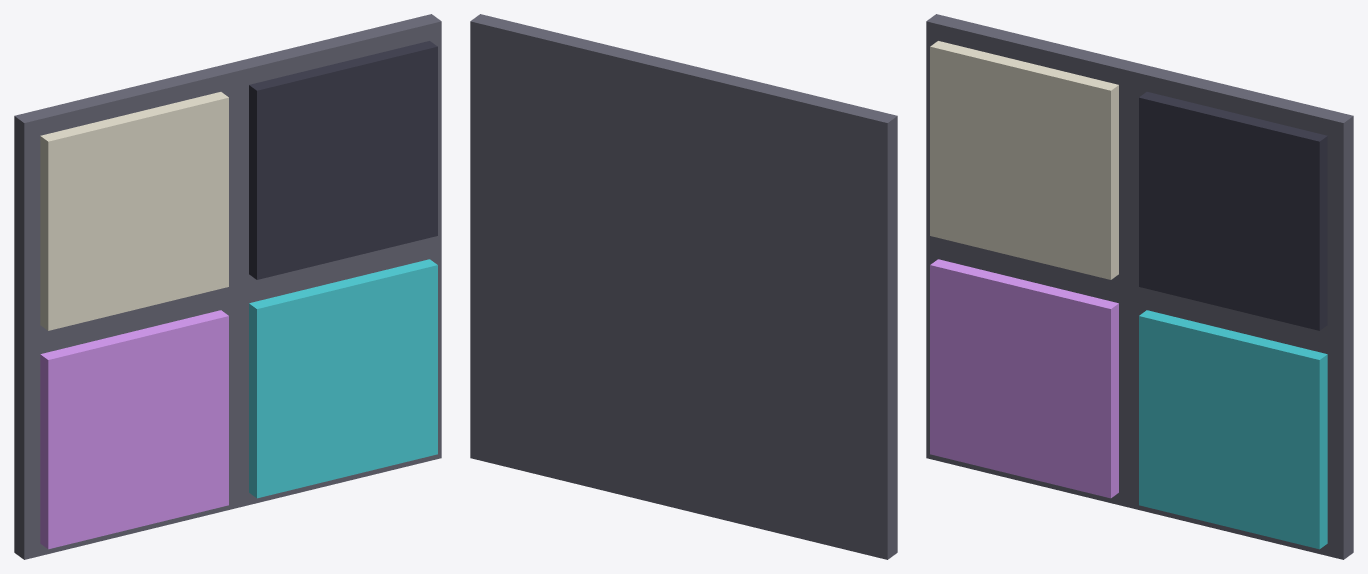
File: 02_texture_remaster_overlay_2.glb
3 views of the same model, side by side, from view 1: azimuth 30°, elevation 25°; view 2: azimuth 150°, elevation 25°; view 3: azimuth 330°, elevation 25° (orthographic).
Parts seen in each view (by area): view 1: uv_reference_tile, atlas_quadrant_c, atlas_quadrant_d, atlas_quadrant_b, atlas_quadrant_a; view 2: uv_reference_tile; view 3: uv_reference_tile, atlas_quadrant_c, atlas_quadrant_d, atlas_quadrant_a, atlas_quadrant_b.
Boxes of the visible parts, x1,y1,x2,y2 form: uv_reference_tile: [14, 14, 441, 559]; atlas_quadrant_c: [40, 92, 228, 330]; atlas_quadrant_d: [249, 41, 437, 279]; atlas_quadrant_b: [249, 259, 437, 498]; atlas_quadrant_a: [40, 310, 228, 549]; uv_reference_tile: [470, 14, 897, 559]; uv_reference_tile: [926, 14, 1353, 559]; atlas_quadrant_c: [930, 41, 1118, 279]; atlas_quadrant_d: [1139, 92, 1327, 330]; atlas_quadrant_a: [930, 259, 1118, 498]; atlas_quadrant_b: [1139, 310, 1327, 549].
Size of the model in its own units: 1.2 by 1.2 by 0.1.
